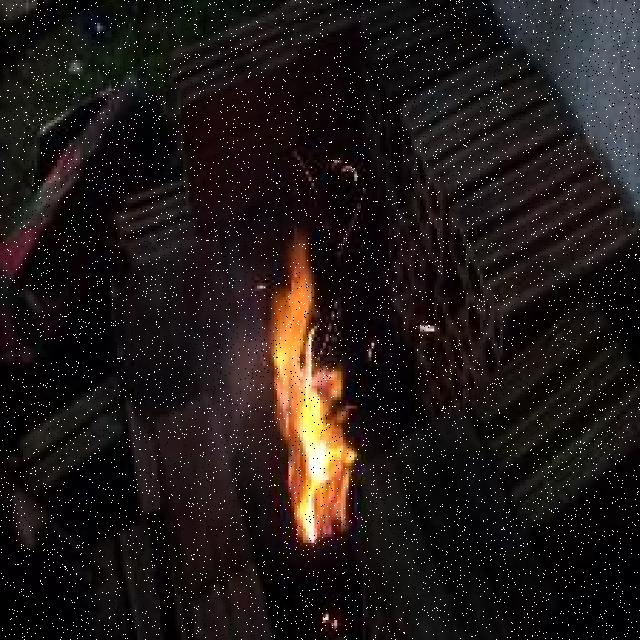fire: (265, 238, 385, 554)
